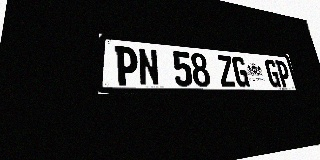5: (172, 51, 194, 86)
8: (190, 53, 211, 87)
G: (231, 56, 250, 87), (264, 59, 282, 87)
N: (137, 48, 160, 86)
P: (115, 46, 139, 86), (275, 60, 292, 87)
Z: (217, 55, 236, 87)
